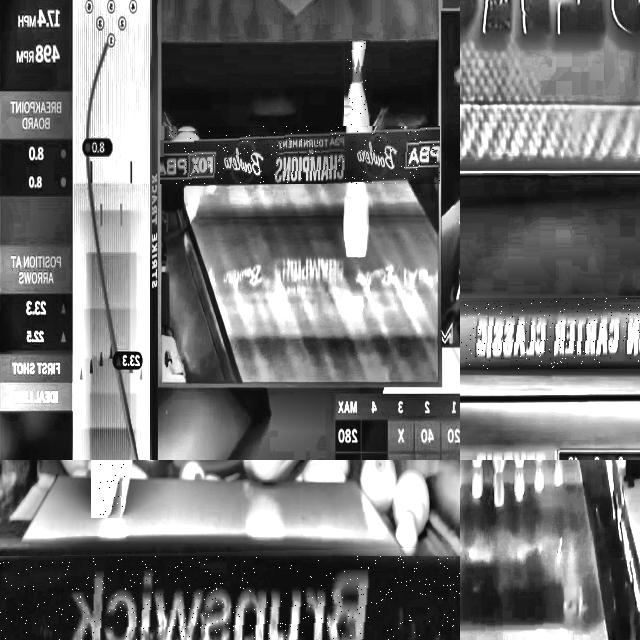bowling-pins: (92, 460, 124, 517), (347, 41, 366, 130)
sweep board: (0, 558, 460, 640), (163, 126, 439, 184), (460, 302, 640, 368)
